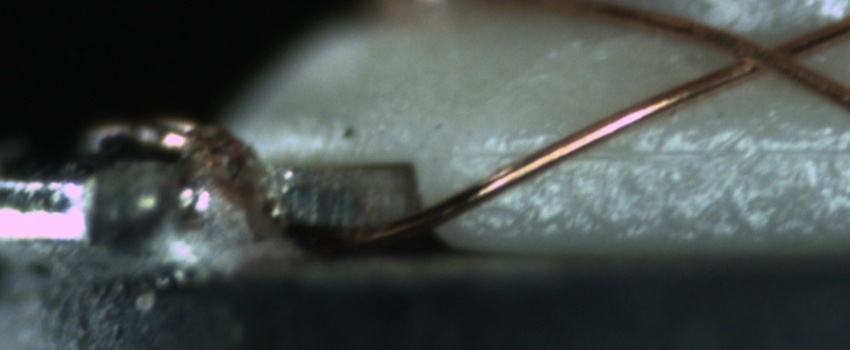CL: (723, 29, 816, 82)
DL: (473, 124, 849, 179)
TE: (62, 105, 263, 169)
